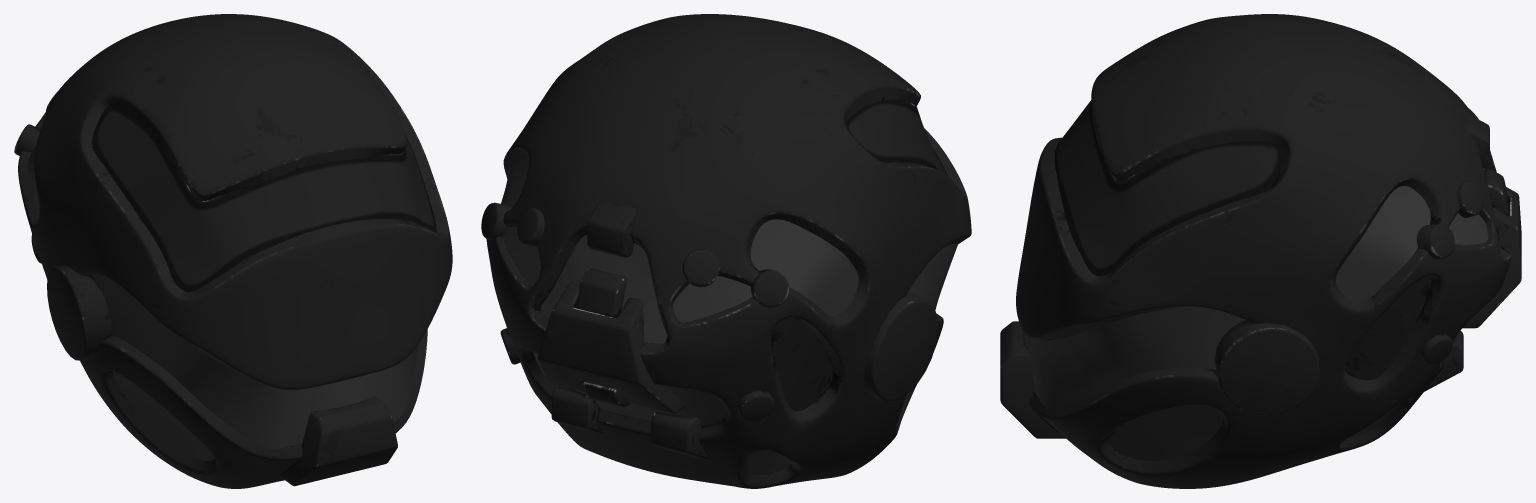
File: helmet.glb
3 views of the same model, side by side, from view 1: azimuth 30°, elevation 25°; view 2: azimuth 150°, elevation 25°; view 3: azimuth 270°, elevation 25° (orthographic). The views are drawn at different scales.
Parts seen in each view (by area): view 1: parts; view 2: parts; view 3: parts.
Boxes of the visible parts, box(x1,y1,x2,y2) form: parts: box(14, 14, 452, 488); parts: box(481, 14, 971, 488); parts: box(1000, 14, 1521, 488).
Bounding box in the file's own units: 2.79 × 3.06 × 3.5.
3 materials, 3 textured.
